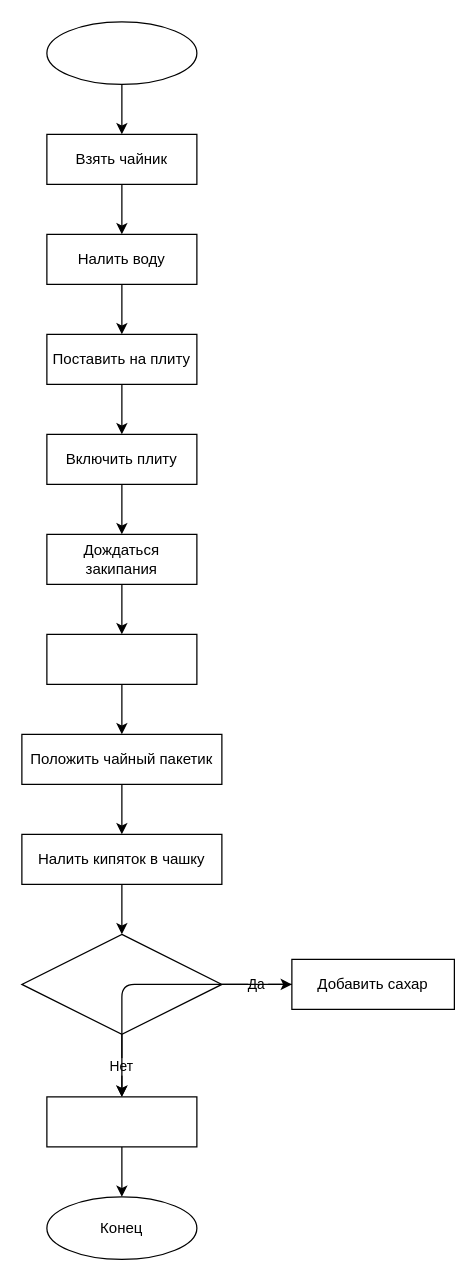
This 476x1281 diagram has some shape labels left out. Here are the shapes that lost their labels. From the top down, the centre of each, then its label:
At point 121,52: "Начало".
At point 121,658: "Взять чашку".
At point 121,983: "Добавить сахар?".
At point 121,1121: "Размешать".
